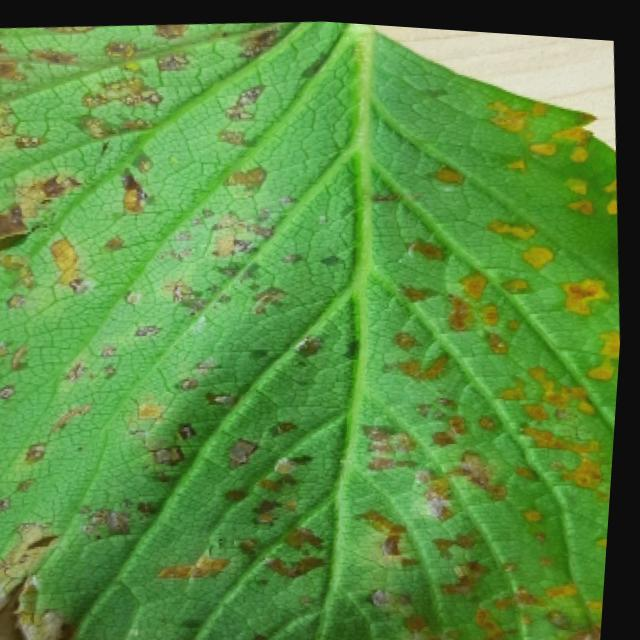Angular Leafspot: (0, 16, 624, 640)
